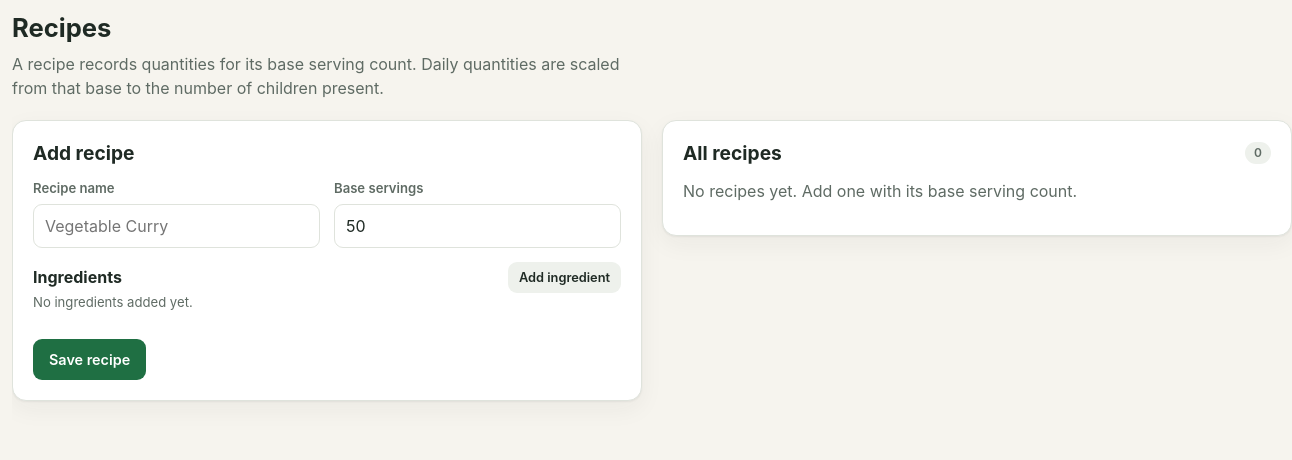
Scenario: Recipes screen › rejects a recipe without ingredients
The image size is (1292, 460).
Expected: the text "No recipes yet. Add one with its base serving count." is shown, [683,181,1077,201]
Type "Test Curry" into the field labelled "Recipe name" at point(176, 226), box [33,204,320,248]
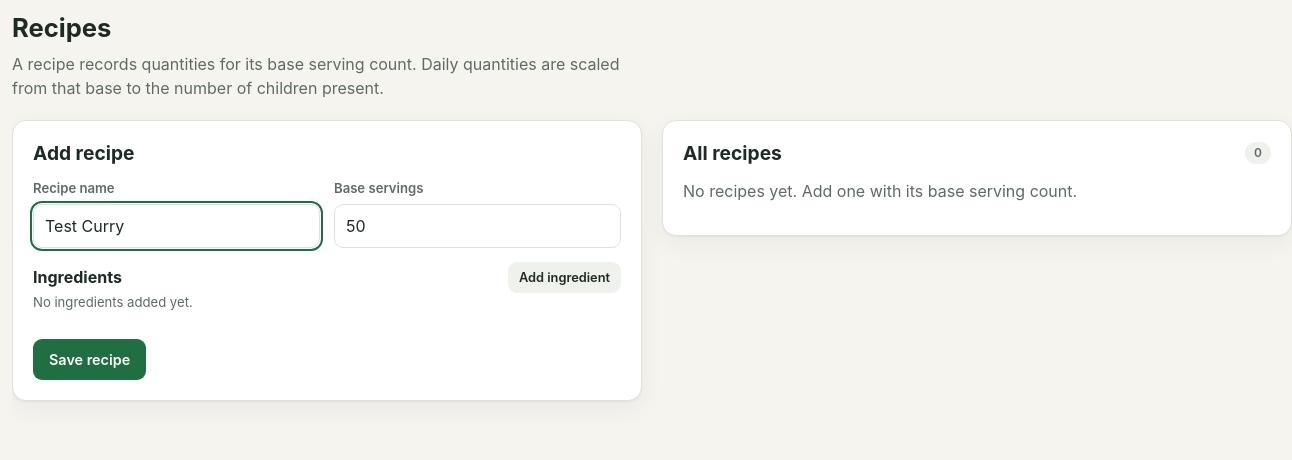
Click the button "Save recipe" at point(90, 359), box [33,338,146,380]
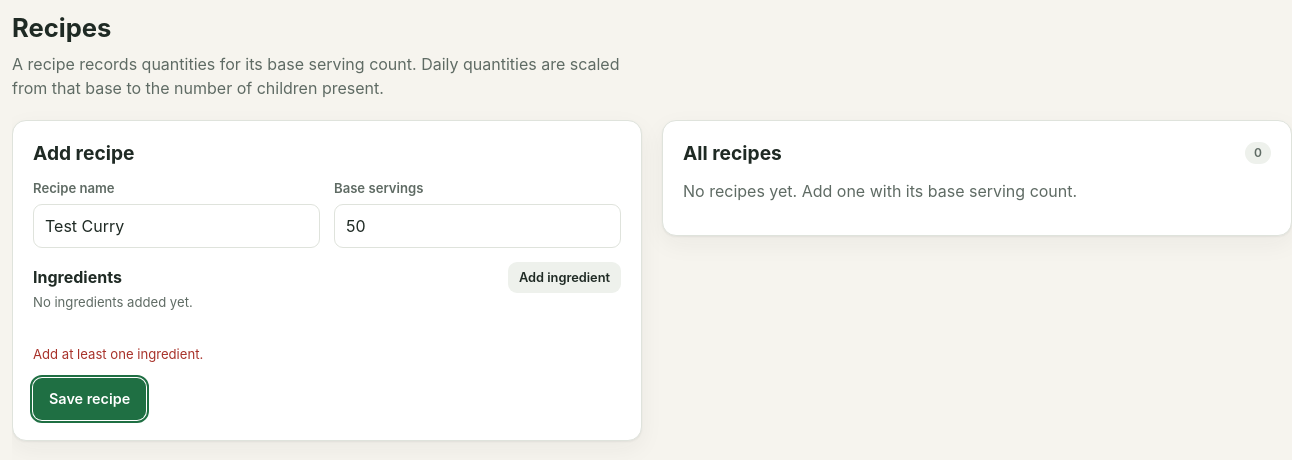
Result: the text "Add at least one ingredient." is shown at [33,346,203,362]
